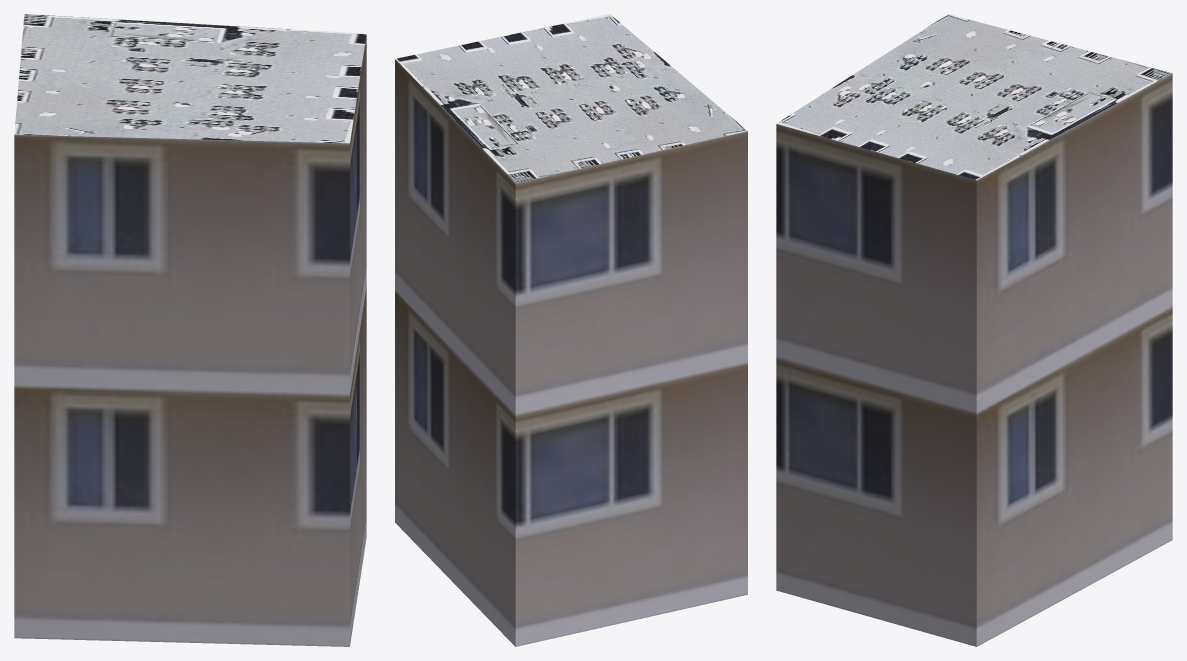
The model's file is ResTex__2400.fbx.
The picture shows the model from 3 angles, left to right: view 1: azimuth 30°, elevation 25°; view 2: azimuth 150°, elevation 25°; view 3: azimuth 270°, elevation 25°; orthographic projection. The views are drawn at different scales.
Parts seen in each view (by area): view 1: CityEngineMaterial_21_m, CityEngineMaterial_8_m; view 2: CityEngineMaterial_21_m, CityEngineMaterial_8_m; view 3: CityEngineMaterial_21_m, CityEngineMaterial_8_m.
Boxes of the visible parts, x1=… form: CityEngineMaterial_21_m: x1=14, y1=35, x2=366, y2=646; CityEngineMaterial_8_m: x1=14, y1=14, x2=366, y2=143; CityEngineMaterial_21_m: x1=395, y1=59, x2=747, y2=646; CityEngineMaterial_8_m: x1=395, y1=14, x2=747, y2=183; CityEngineMaterial_21_m: x1=776, y1=73, x2=1172, y2=646; CityEngineMaterial_8_m: x1=776, y1=14, x2=1172, y2=180.
Bounding box in the file's own units: 4.58 × 6 × 4.62.
2 materials, 2 textured.
